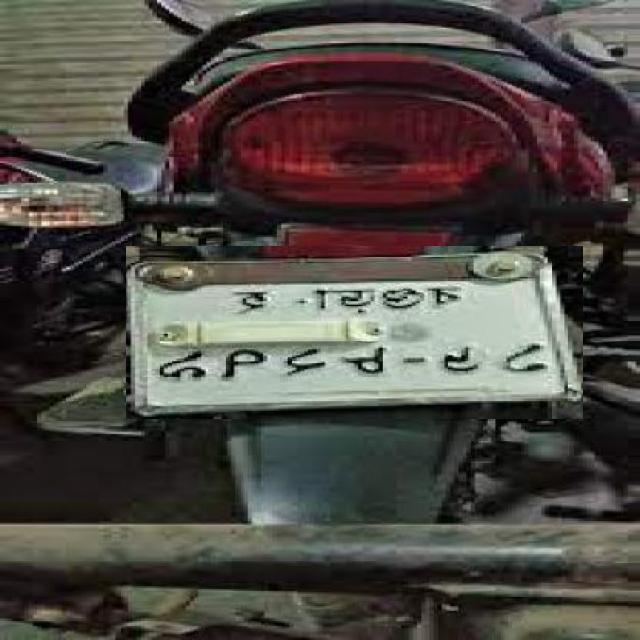numberplate: (126, 246, 583, 419)
